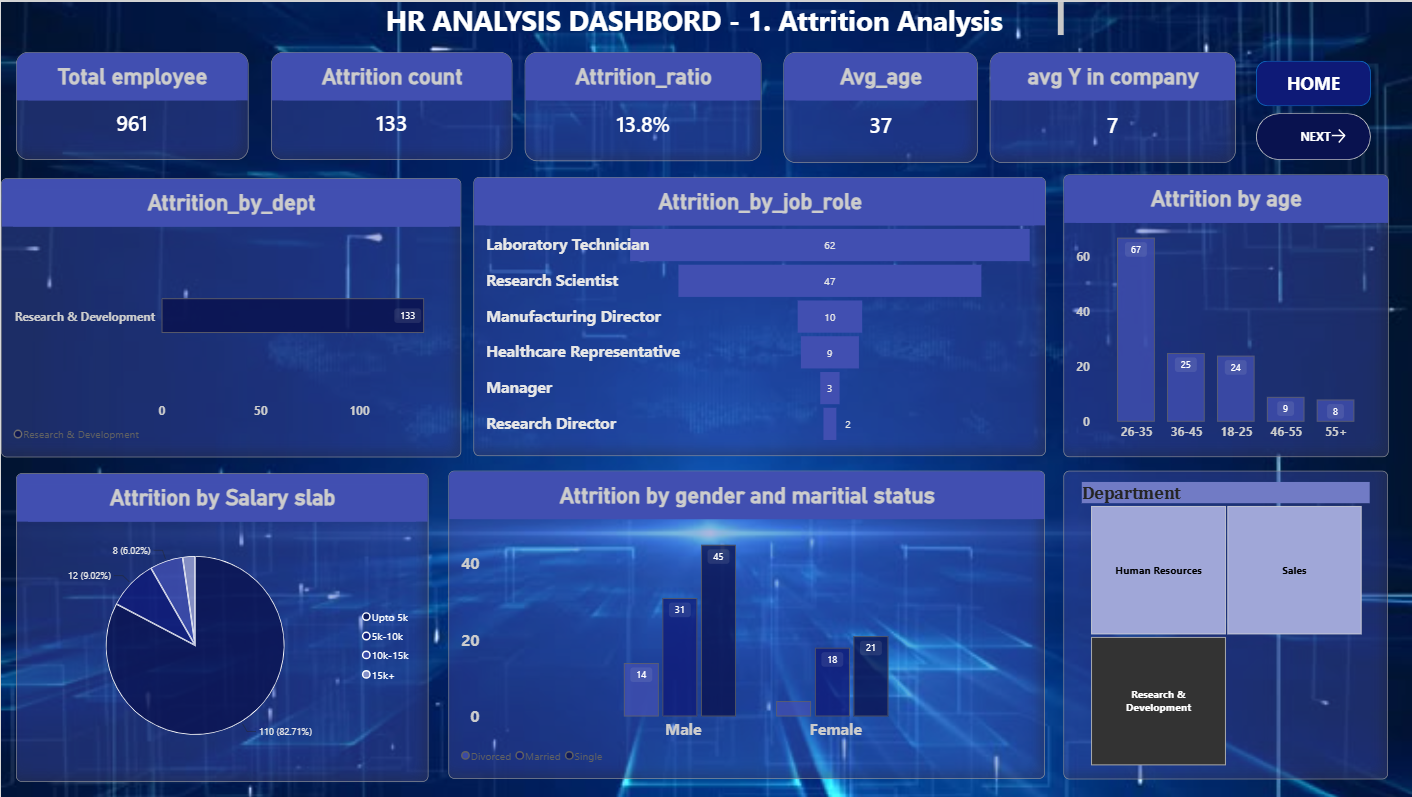

The page's visual inventory and layout, read from the dashboard file:
{"tool":"powerbi","page":{"name":"attrition_analysis","canvas":[1920,1080],"ordinal":1},"visuals":[{"type":"card","title":"Total employee","fields":{"Values":["CountNonNull(HR_Analytics.EmpID)"]},"box":[19.9,67,314.9,146.1],"z":0},{"type":"card","title":"Attrition count","fields":{"Values":["CountNonNull(HR_Analytics.Attrition)"]},"box":[365.6,67,327.3,146.1],"z":1000},{"type":"textbox","box":[43,345,292,294],"z":2000},{"type":"card","title":"Attrition_ratio","fields":{"Values":["HR_Analytics.Attrition_ratio"]},"box":[709.4,67,321.1,148.2],"z":3000},{"type":"card","title":"Avg_age","fields":{"Values":["Avg(HR_Analytics.Age)"]},"box":[1060.5,67,263.5,150.3],"z":4000},{"type":"card","title":"avg Y in company","fields":{"Values":["Avg(HR_Analytics.YearsAtCompany)"]},"box":[1341,67,333.4,150.3],"z":5000},{"type":"barChart","title":"Attrition_by_dept","fields":{"Category":["HR_Analytics.Department"],"Series":["HR_Analytics.Department"],"Y":["Sum(HR_Analytics.Atrtrition_count)"]},"box":[0,238.8,623.7,378.7],"z":6000},{"type":"funnel","title":"Attrition_by_job_role","fields":{"Category":["HR_Analytics.JobRole"],"Y":["Sum(HR_Analytics.Atrtrition_count)"]},"box":[640.6,237.1,776.3,378.2],"z":7000},{"type":"clusteredColumnChart","title":"Attrition by age","fields":{"Category":["HR_Analytics.AgeGroup"],"Y":["Sum(HR_Analytics.Atrtrition_count)"]},"box":[1440.8,234.6,440.5,382.8],"z":8000},{"type":"clusteredColumnChart","title":"Attrition by gender and maritial status","fields":{"Category":["HR_Analytics.Gender"],"Series":["HR_Analytics.MaritalStatus"],"Y":["Sum(HR_Analytics.Atrtrition_count)"]},"box":[607.2,636,808.9,417.8],"z":10000},{"type":"slicer","fields":{"Values":["HR_Analytics.Department"]},"box":[1441,636,440,418],"z":11000},{"type":"textbox","box":[445.2,0,995.3,47.1],"z":12000},{"type":"actionButton","box":[1701.1,150.2,155.6,63.3],"z":12001},{"type":"pieChart","title":"Attrition by Salary slab","fields":{"Category":["HR_Analytics.SalarySlab"],"Y":["Sum(HR_Analytics.Atrtrition_count)"]},"box":[19.9,638.8,559.2,418],"z":12002},{"type":"shape","box":[1701.1,79.6,155.6,61.5],"z":12003}]}

Visuals, with their boxes in screenshot pixels (x1, y1, x2, y2), scaled from the page's 1920x1080 canvas onto the 1412x797 screenshot:
"Total employee" card: bbox=[15, 49, 246, 157]
"Attrition count" card: bbox=[269, 49, 510, 157]
textbox: bbox=[32, 255, 246, 472]
"Attrition_ratio" card: bbox=[522, 49, 758, 159]
"Avg_age" card: bbox=[780, 49, 974, 160]
"avg Y in company" card: bbox=[986, 49, 1231, 160]
"Attrition_by_dept" barChart: bbox=[0, 176, 459, 456]
"Attrition_by_job_role" funnel: bbox=[471, 175, 1042, 454]
"Attrition by age" clusteredColumnChart: bbox=[1060, 173, 1384, 456]
"Attrition by gender and maritial status" clusteredColumnChart: bbox=[447, 469, 1041, 778]
slicer - HR_Analytics.Department: bbox=[1060, 469, 1383, 778]
textbox: bbox=[327, 0, 1059, 35]
actionButton: bbox=[1251, 111, 1365, 158]
"Attrition by Salary slab" pieChart: bbox=[15, 471, 426, 780]
shape: bbox=[1251, 59, 1365, 104]
